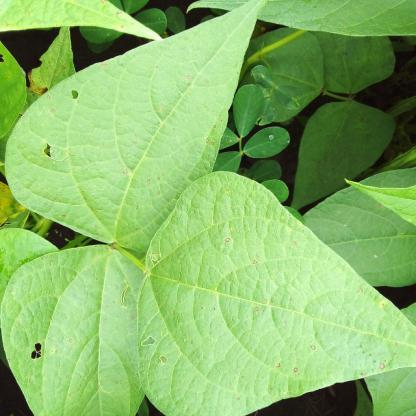Beans_Angular_LeafSpot: (135, 173, 416, 416), (15, 28, 250, 228), (4, 248, 148, 416)
